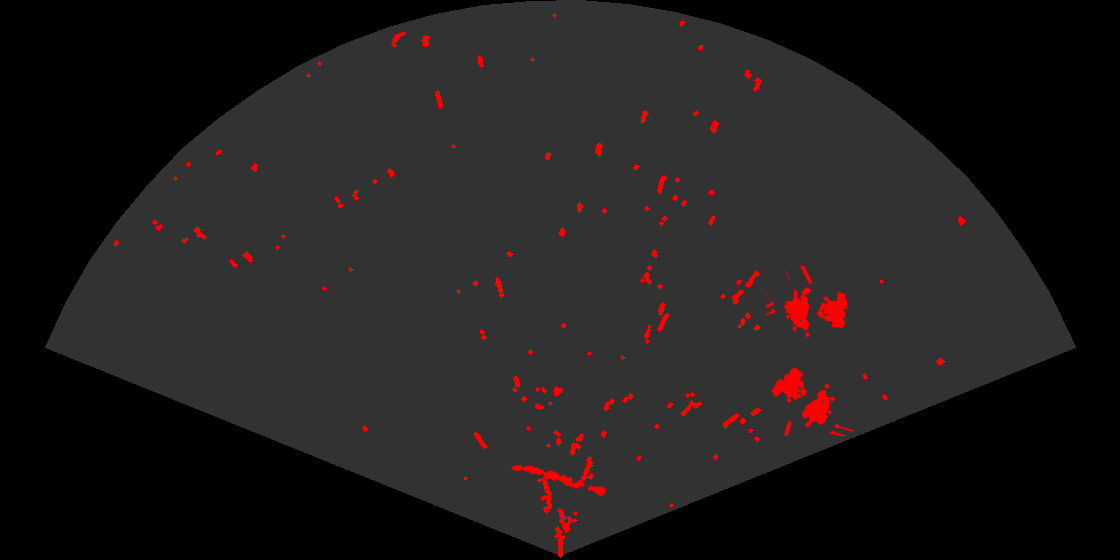cage: (766, 266, 849, 339), (770, 366, 853, 436)
chain: (509, 463, 608, 498)
